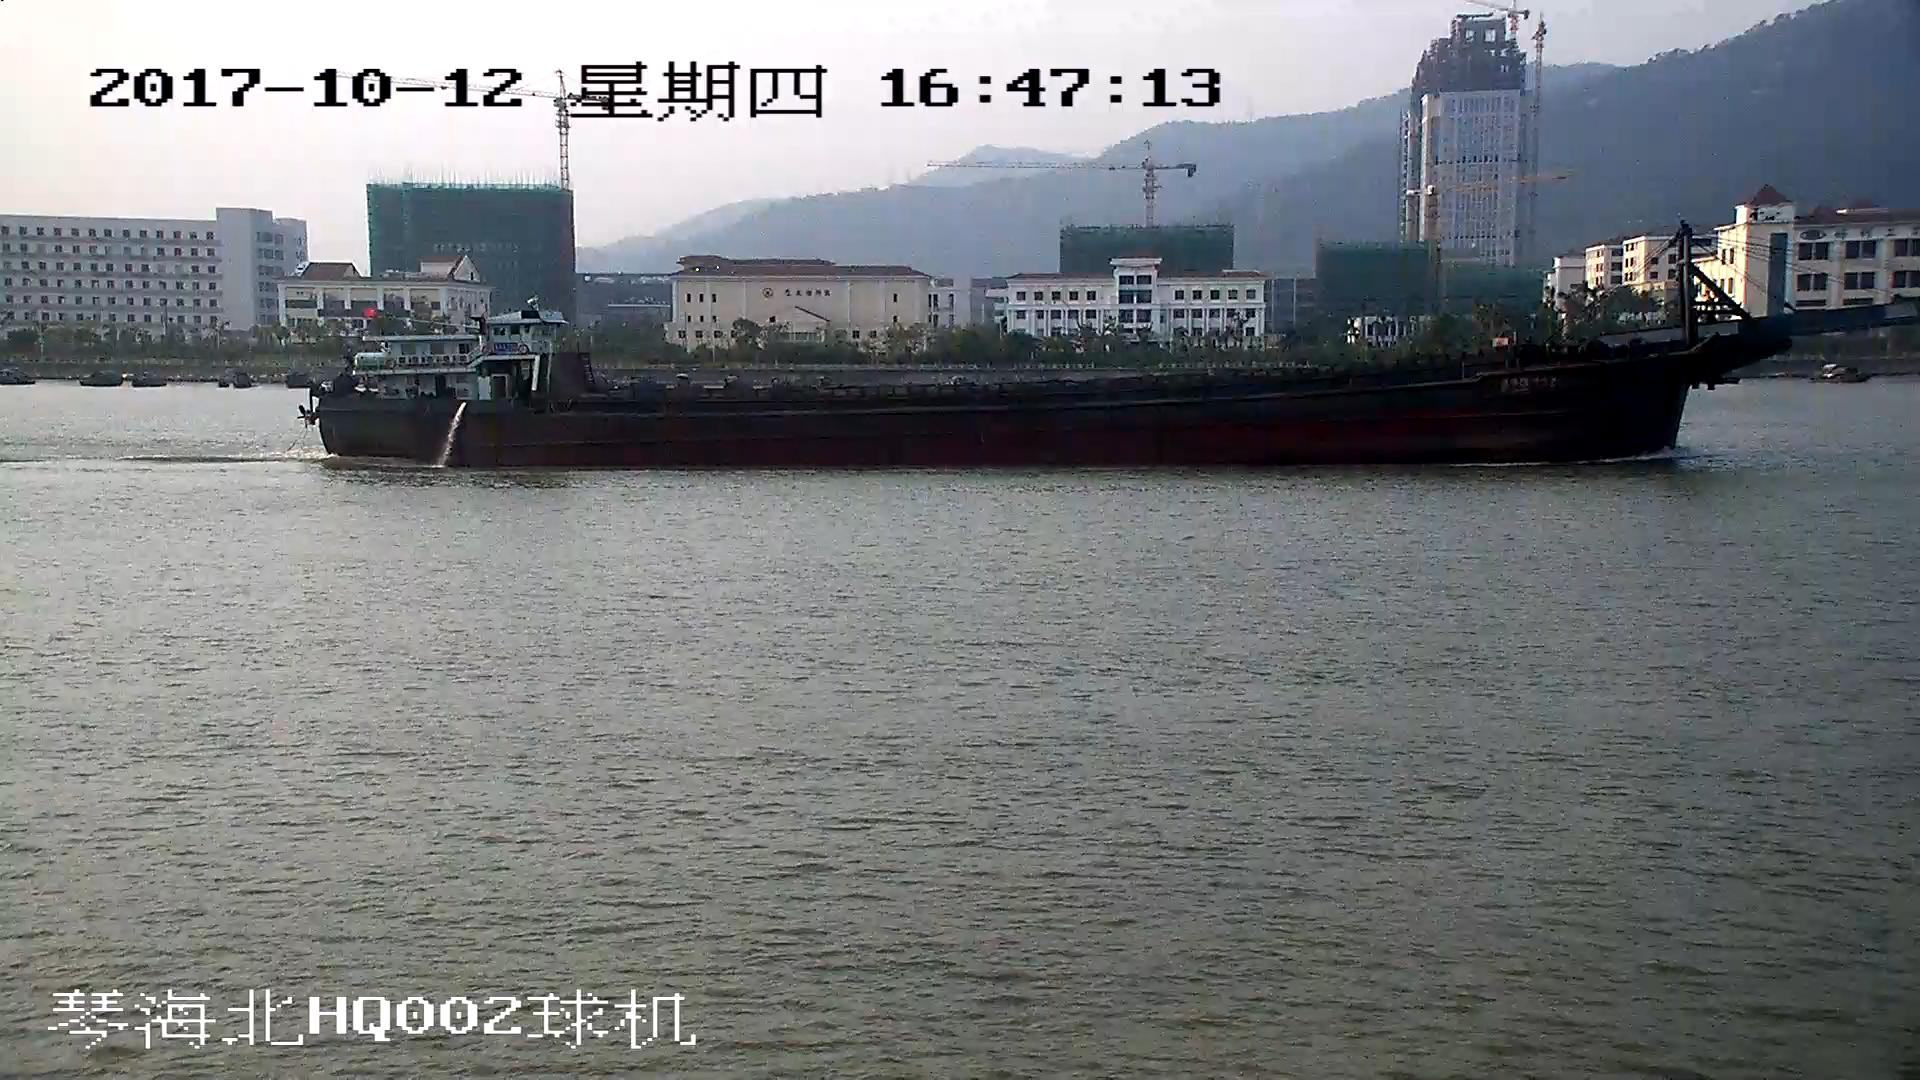bulk cargo carrier: (321, 223, 1920, 466)
